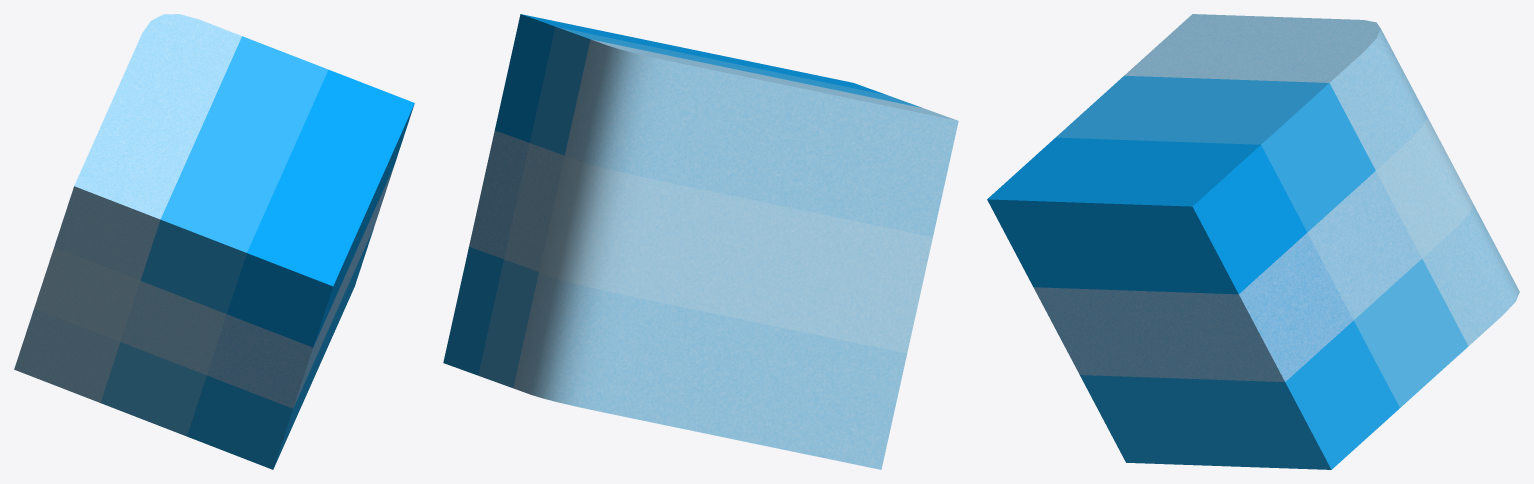
The model's file is HarborBlender.glb.
3 views of the same model, side by side, from view 1: azimuth 30°, elevation 25°; view 2: azimuth 150°, elevation 25°; view 3: azimuth 270°, elevation 25° (orthographic). The views are drawn at different scales.
Parts seen in each view (by area): view 1: harbor; view 2: harbor; view 3: harbor.
Boxes of the visible parts, x1=… form: harbor: x1=14, y1=14, x2=414, y2=469; harbor: x1=443, y1=14, x2=958, y2=469; harbor: x1=987, y1=14, x2=1519, y2=469.
Bounding box in the file's own units: 0.4243 × 0.4461 × 0.4963.
Materials: 1 (1 with a texture image).
